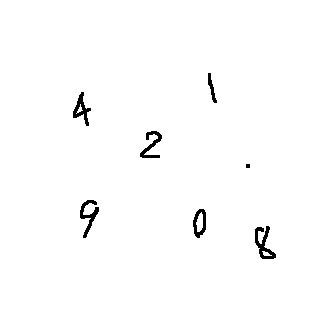.: (239, 157, 258, 176)
0: (187, 199, 217, 248)
1: (203, 66, 223, 115)
2: (132, 122, 178, 166)
4: (62, 88, 99, 141)
8: (251, 222, 283, 264)
9: (72, 195, 119, 252)
